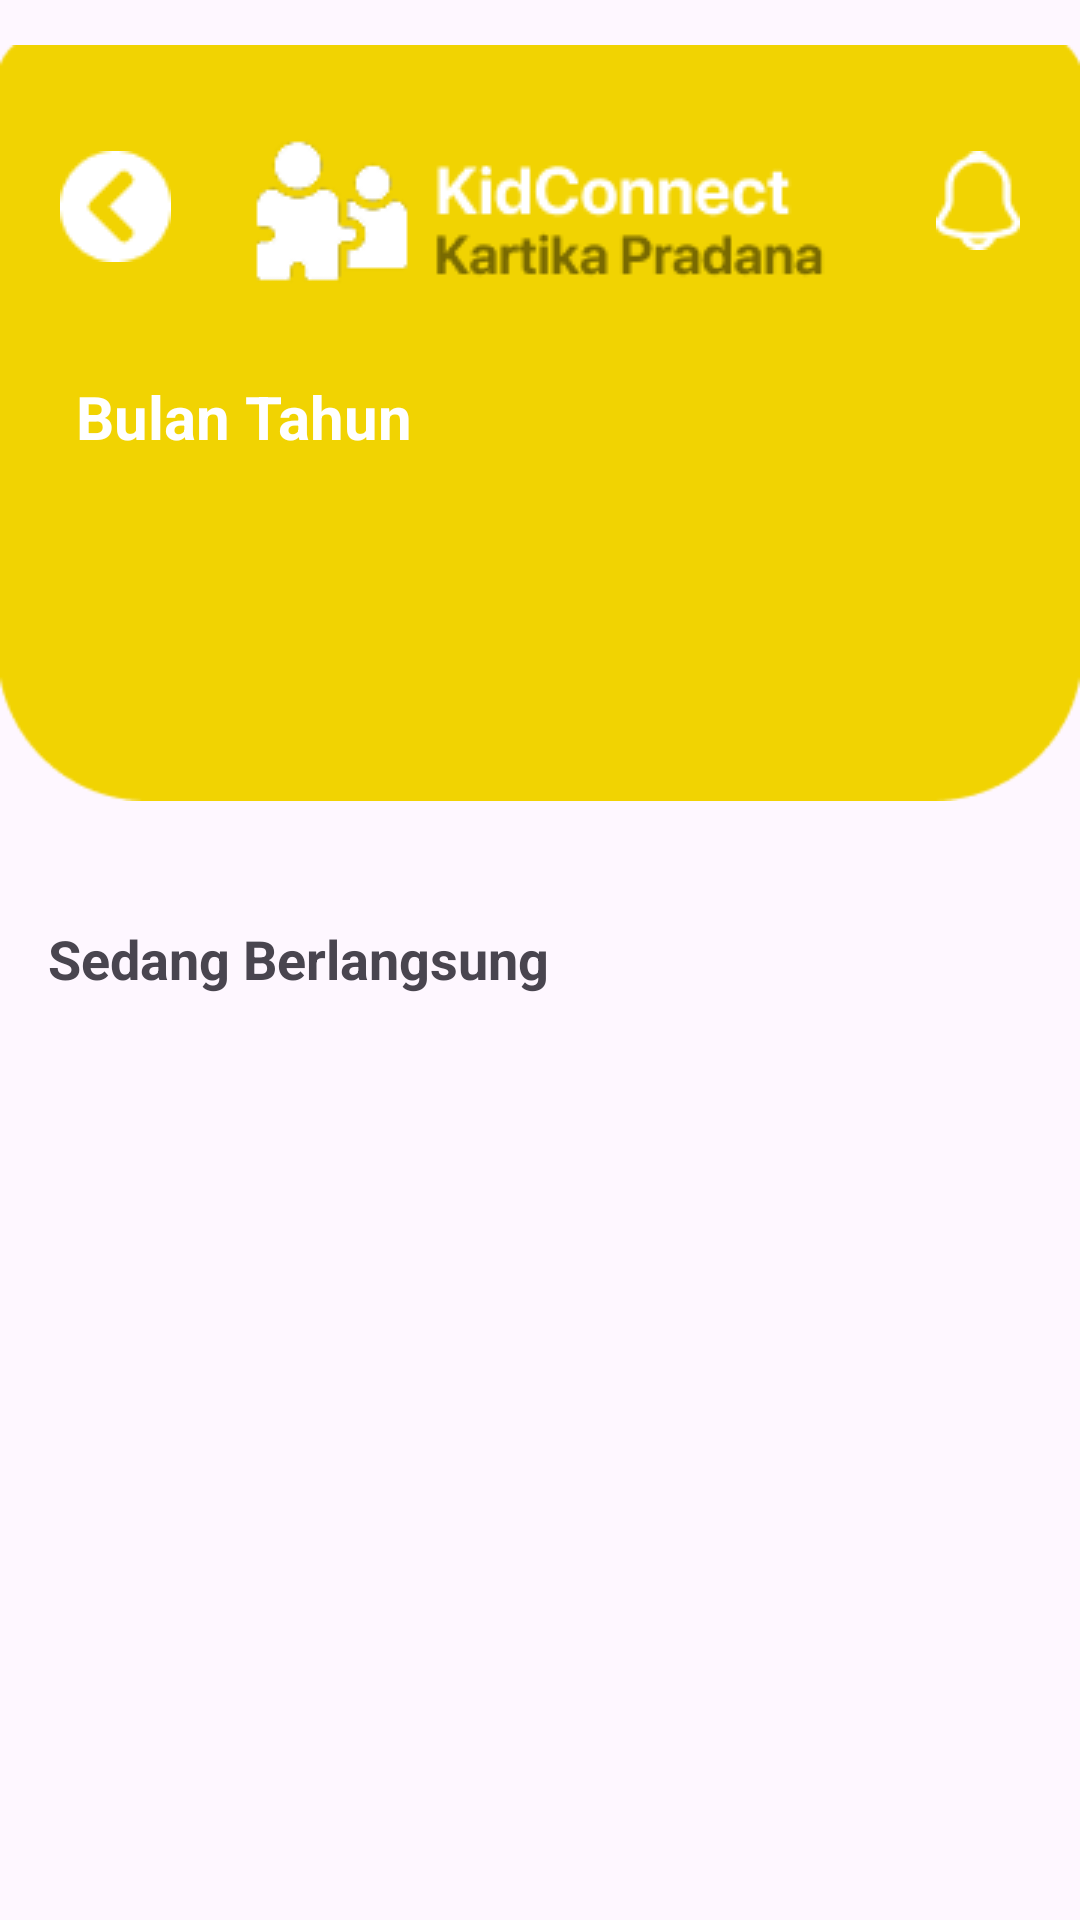

Screen size 1080w x 1920h. Icon name, then its center in pixels as point (x, y):
back: point (115, 206)
notif: point (978, 200)
